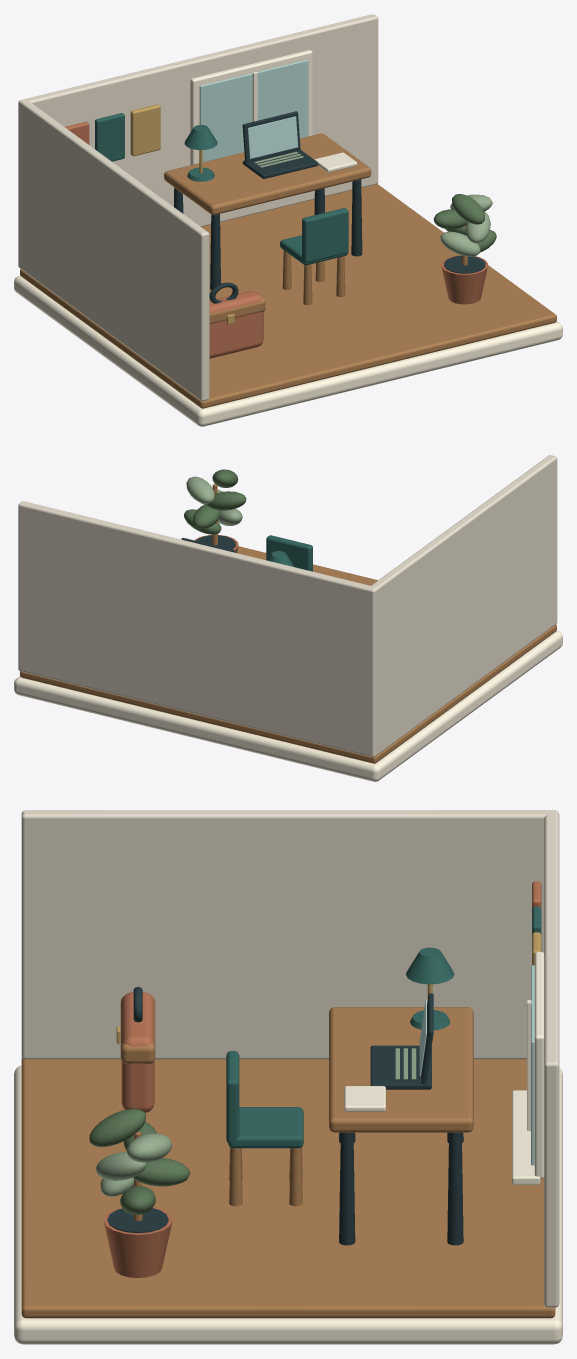
The model's file is destination-studio.glb.
The picture shows the model from 3 angles, top to bottom: view 1: azimuth 30°, elevation 25°; view 2: azimuth 150°, elevation 25°; view 3: azimuth 270°, elevation 25°; orthographic projection. The views are drawn at different scales.
Visible parts, largest first — view 1: floor, side-wall, back-wall, foundation, desktop, window-glass, wall-art (×2), leather-case, back, window-frame, screen, leg (×2) (+9 smaller); view 2: back-wall, side-wall, foundation, floor, leaf (×3), back; view 3: side-wall, floor, foundation, desktop, back-wall, leaf (×5), leg (×4), leather-case, seat, ceramic-pot, window-frame, keyboard-base (+7 smaller).
Boxes of the visible parts, x1,y1,x2,y2 form: floor: (20, 184, 556, 408); side-wall: (20, 100, 209, 401); back-wall: (18, 14, 378, 269); foundation: (14, 275, 562, 426); desktop: (164, 133, 371, 215); window-glass: (199, 59, 308, 162); wall-art (×2): (95, 104, 160, 161); leather-case: (209, 291, 263, 358); back: (302, 208, 348, 262); window-frame: (190, 50, 312, 165); screen: (247, 116, 298, 158); leg (×2): (210, 179, 362, 289); back-wall: (18, 501, 377, 757); side-wall: (371, 455, 557, 754); foundation: (14, 631, 562, 781); floor: (20, 546, 556, 763); leaf (×3): (186, 476, 246, 528); back: (266, 535, 312, 571); side-wall: (21, 810, 551, 1059); floor: (21, 1058, 555, 1318); foundation: (14, 1065, 562, 1344); desktop: (329, 1007, 473, 1132); back-wall: (544, 810, 559, 1307); leaf (×5): (89, 1108, 190, 1214); leg (×4): (229, 1132, 463, 1245); leather-case: (121, 992, 154, 1112); seat: (228, 1107, 303, 1148); ceramic-pot: (103, 1207, 172, 1277); window-frame: (534, 952, 544, 1178); keyboard-base: (370, 1045, 431, 1089).
Bounding box in the file's own units: 4.1 × 2.06 × 3.65.
